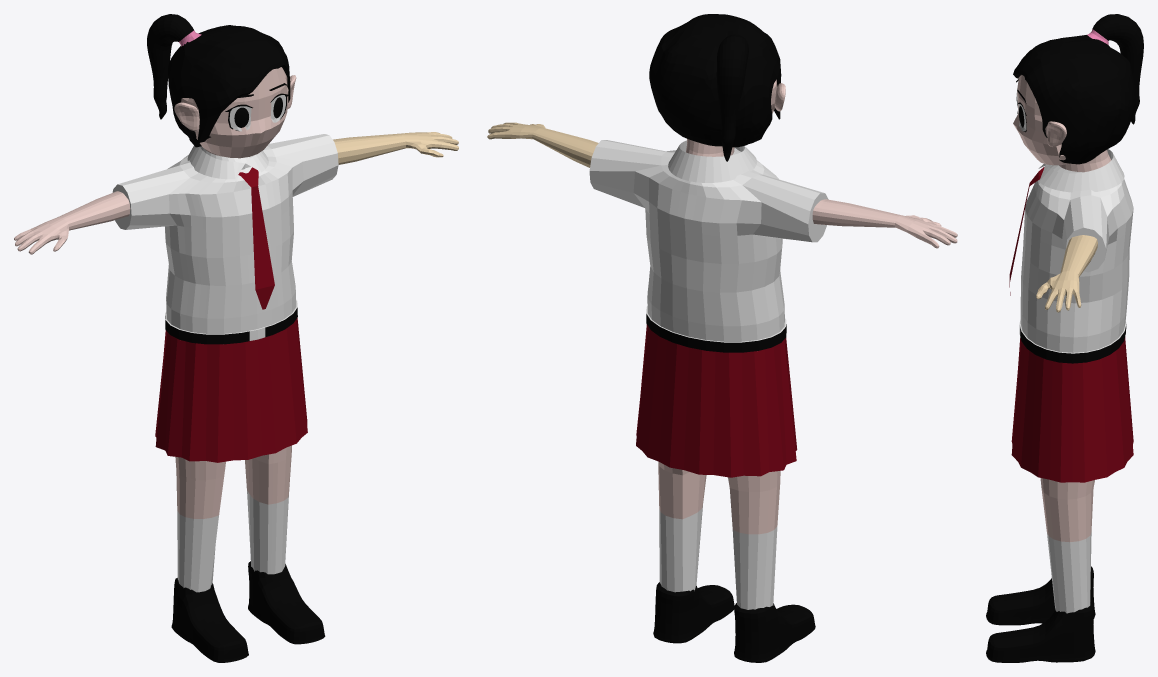
Rendered from siswi.fbx.
The picture shows the model from 3 angles, left to right: view 1: azimuth 30°, elevation 25°; view 2: azimuth 150°, elevation 25°; view 3: azimuth 270°, elevation 25°; orthographic projection. The views are drawn at different scales.
Parts seen in each view (by area): view 1: Cylinder, Cylinder.001, Plane.001, Cube.005, Cube.004, Cube.003, Cube.002, Plane, Cylinder.002; view 2: Cylinder, Cylinder.001, Plane.001, Cube.005, Cube.004, Cube.003, Cylinder.002, Cube.002; view 3: Cylinder, Cylinder.001, Plane.001, Cube.004, Cube.005, Cube.002, Cylinder.002, Cube, Plane.
Part boxes in pixels (x1,y1,x2,y2): Cylinder: (112,67,338,592); Cylinder.001: (155,317,307,462); Plane.001: (147,14,290,147); Cube.005: (171,578,248,662); Cube.004: (248,561,325,644); Cube.003: (14,191,130,254); Cube.002: (333,132,458,164); Plane: (238,167,274,309); Cylinder.002: (187,145,268,179); Cylinder: (589,79,828,609); Cylinder.001: (636,324,797,477); Plane.001: (649,14,781,161); Cube.005: (734,603,815,662); Cube.004: (653,582,734,643); Cube.003: (812,199,957,248); Cylinder.002: (668,140,756,182); Cube.002: (487,122,598,167); Cylinder: (1013,75,1133,613); Cylinder.001: (1011,337,1133,482); Plane.001: (1013,14,1143,164); Cube.004: (986,603,1095,662); Cube.005: (986,566,1095,625); Cube.002: (1036,235,1097,312); Cylinder.002: (1038,149,1124,192); Cube: (1047,121,1066,147); Plane: (1009,167,1044,295).
Size of the model in its own units: 295 by 384 by 91.
